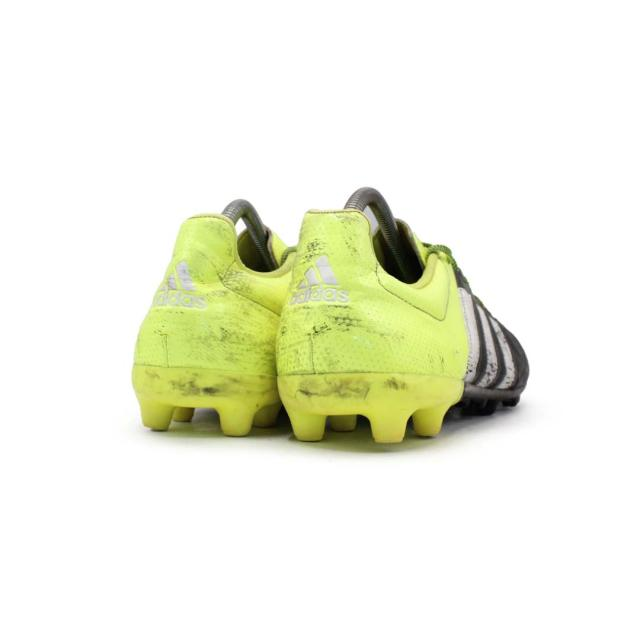heel: (275, 210, 451, 373), (136, 219, 279, 367)
midsole: (276, 367, 508, 447), (125, 367, 280, 436)
